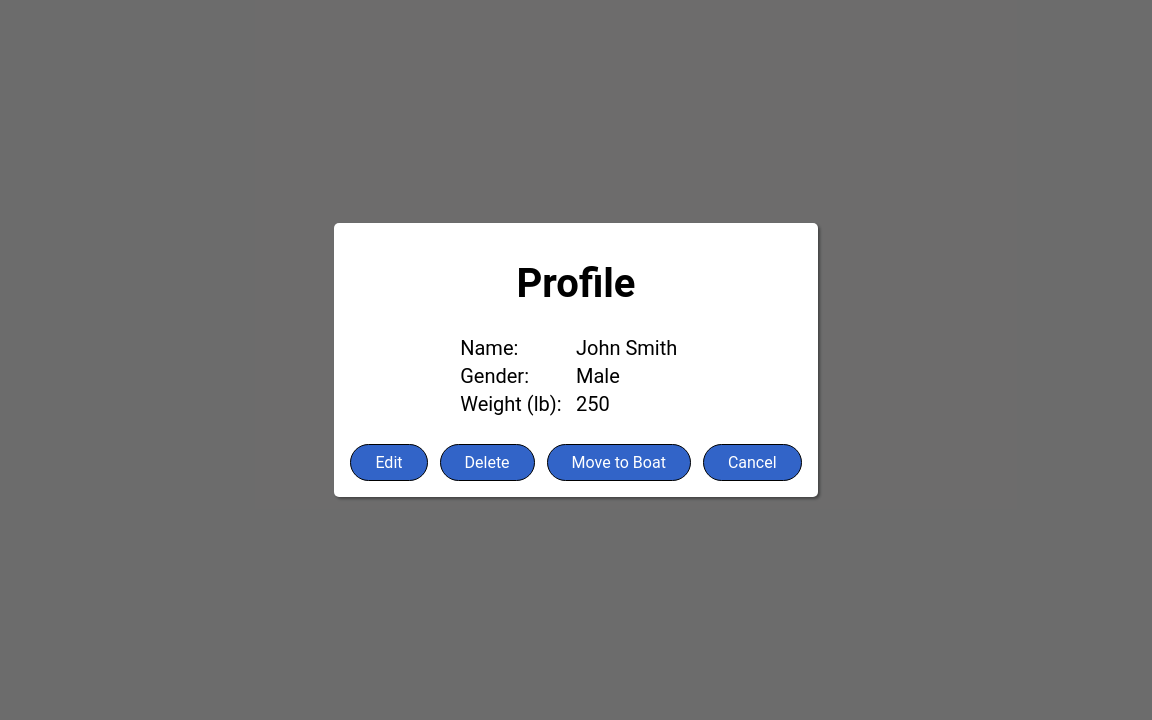
Test: paddler edit behavior › returns to profile in full-view window when user clicks back button from editing form
Click the button "Edit" at (389, 462), box top-left (350, 444), bottom-right (428, 481)
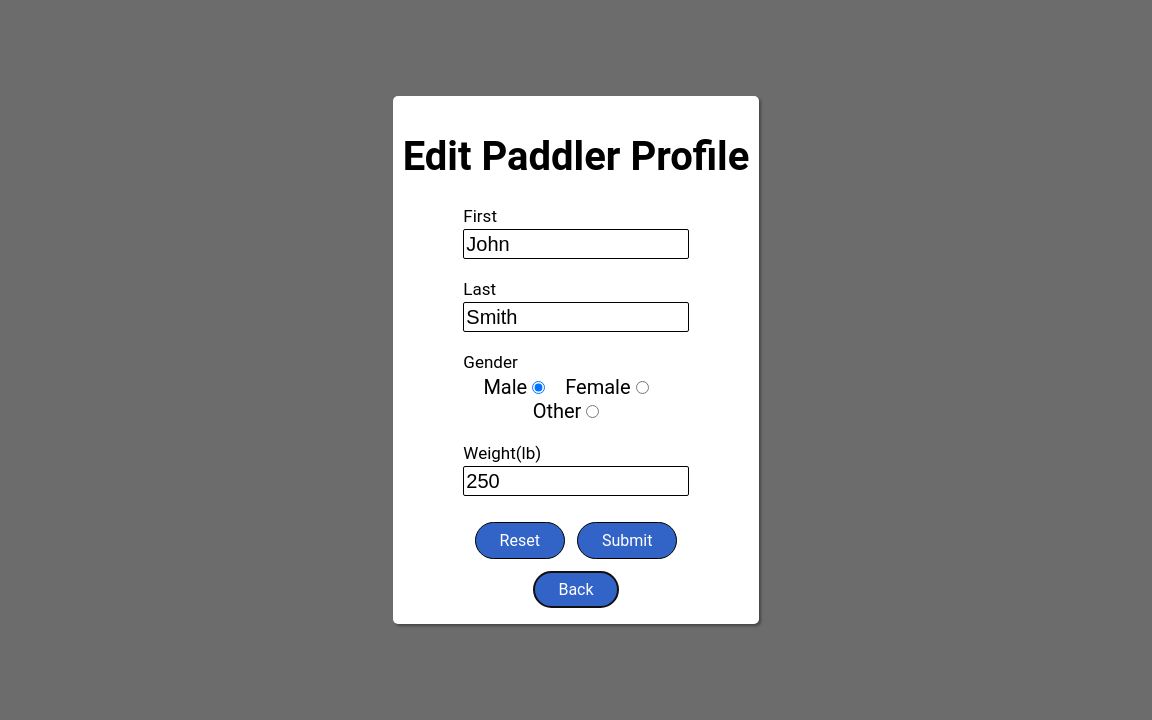
Click the button "Back" at (576, 590), box top-left (533, 571), bottom-right (619, 608)
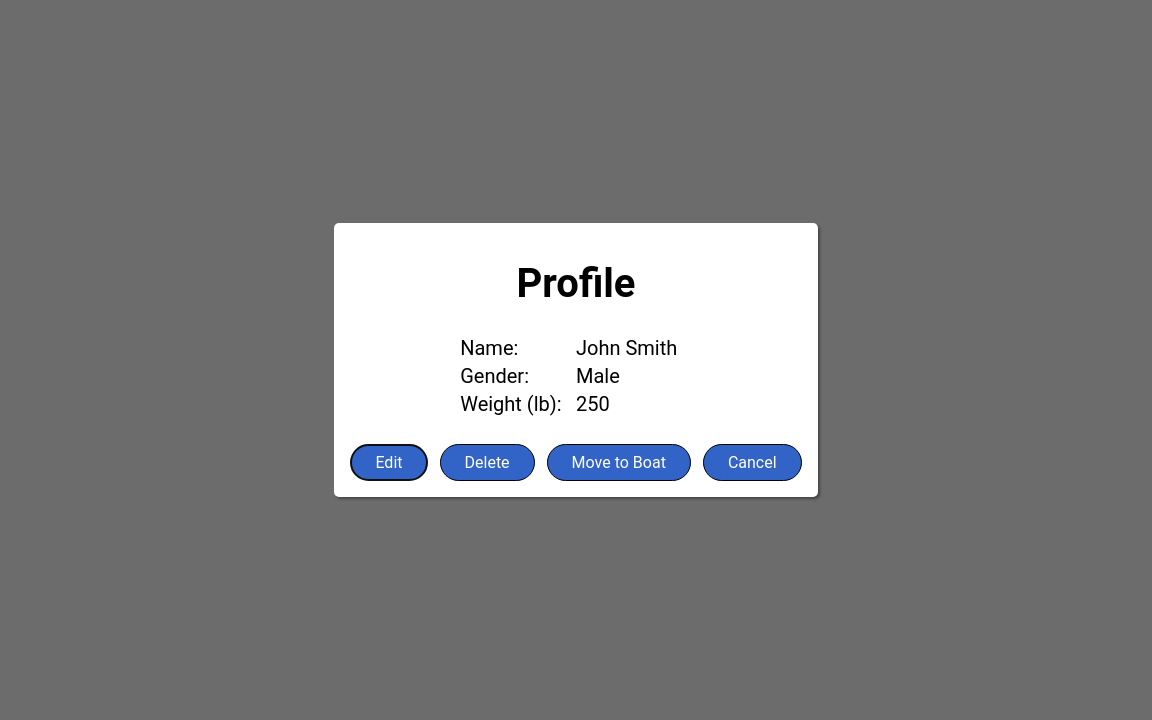
Now the form with test id "paddlerForm" is gone
